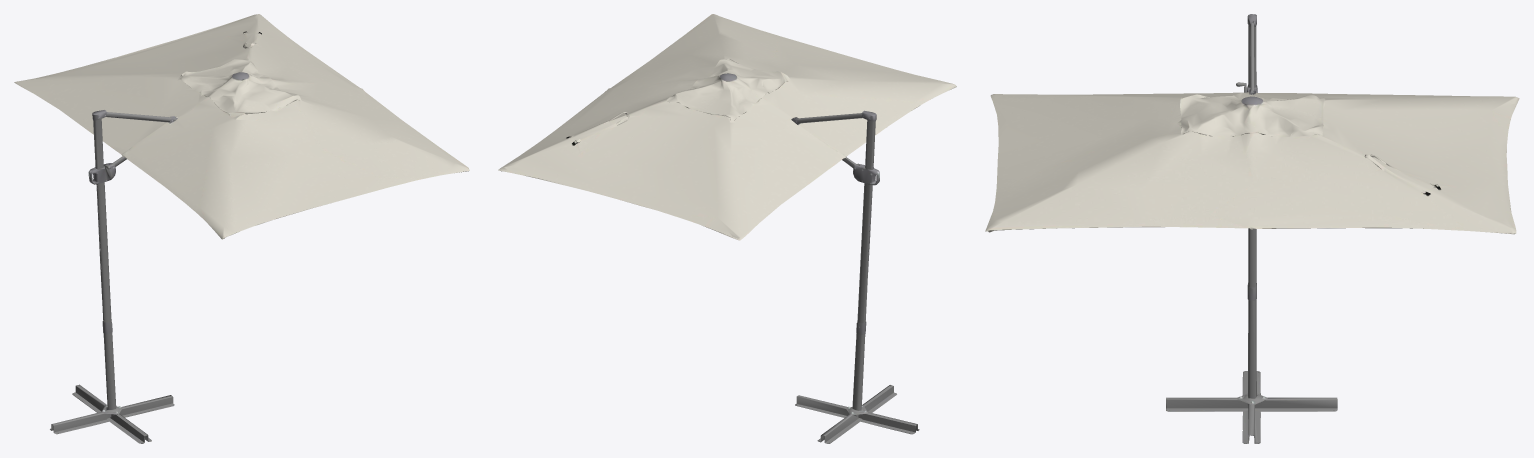
File: svalon_zawieszany_parasol_40525077.glb
3 renders of one model, left to right at view 1: azimuth 30°, elevation 25°; view 2: azimuth 150°, elevation 25°; view 3: azimuth 270°, elevation 25°, orthographic. The views are drawn at different scales.
Visible parts, largest first — view 1: svalon_zawieszany_parasol_40525077; view 2: svalon_zawieszany_parasol_40525077; view 3: svalon_zawieszany_parasol_40525077.
Boxes of the visible parts, <box> form: svalon_zawieszany_parasol_40525077: <box>14,14,469,443</box>; svalon_zawieszany_parasol_40525077: <box>498,14,956,443</box>; svalon_zawieszany_parasol_40525077: <box>985,14,1519,443</box>.
Bounding box in the file's own units: 2.52 × 2.4 × 3.
Materials: 2 (2 with a texture image).
